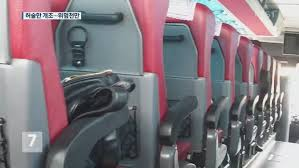seat: (106, 18, 197, 162)
